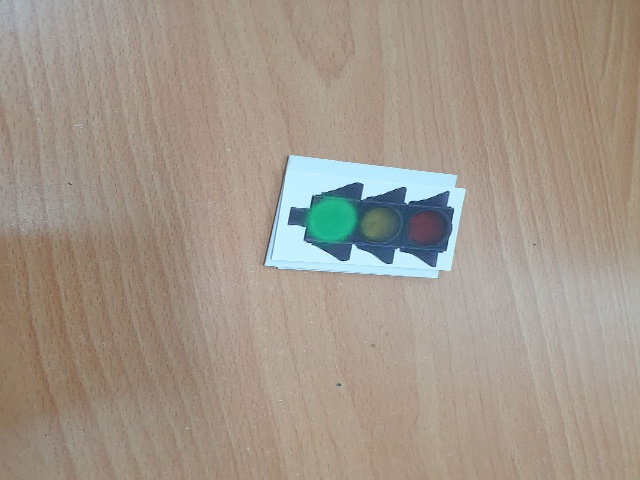Green: (281, 186, 458, 274)
